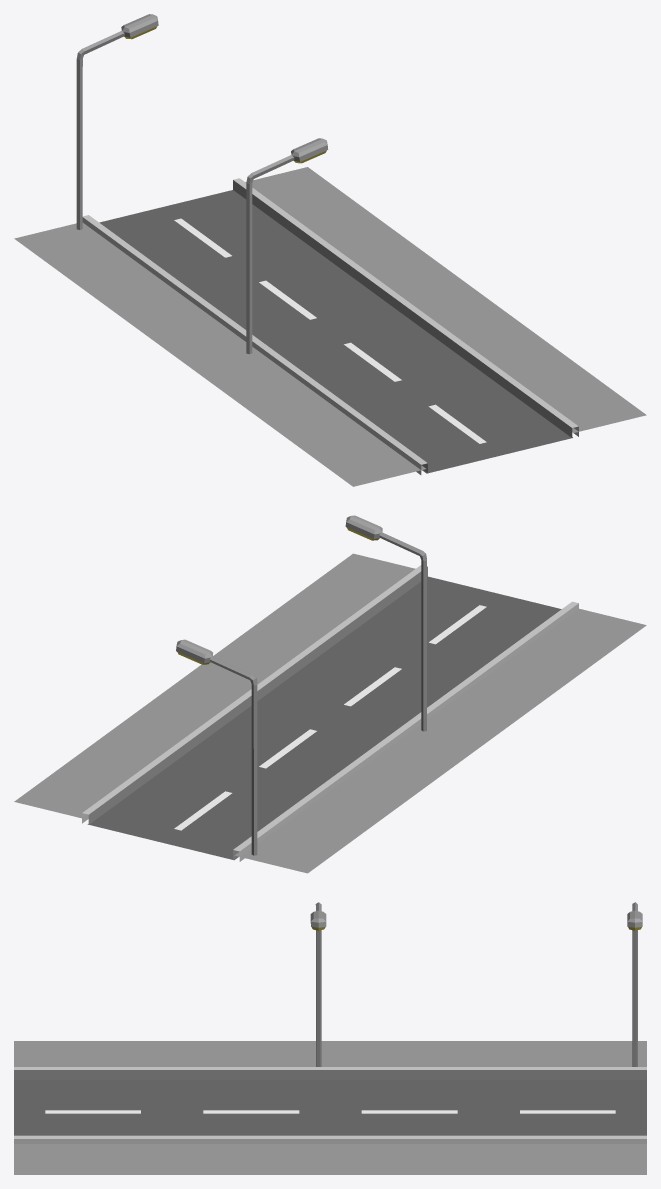
Rendered from street2x1.fbx.
3 views of the same model, one above another, from view 1: azimuth 30°, elevation 25°; view 2: azimuth 150°, elevation 25°; view 3: azimuth 270°, elevation 25° (orthographic). The views are drawn at different scales.
Parts seen in each view (by area): view 1: road_tile_1x1_1.001; view 2: road_tile_1x1_1.001; view 3: road_tile_1x1_1.001.
Part boxes in pixels (x1,y1,x2,y2): road_tile_1x1_1.001: (14,14,646,486); road_tile_1x1_1.001: (14,515,646,873); road_tile_1x1_1.001: (14,902,646,1174).
Size of the model in its own units: 400 by 262 by 800.
